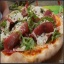pizza: (3, 10, 64, 62)
